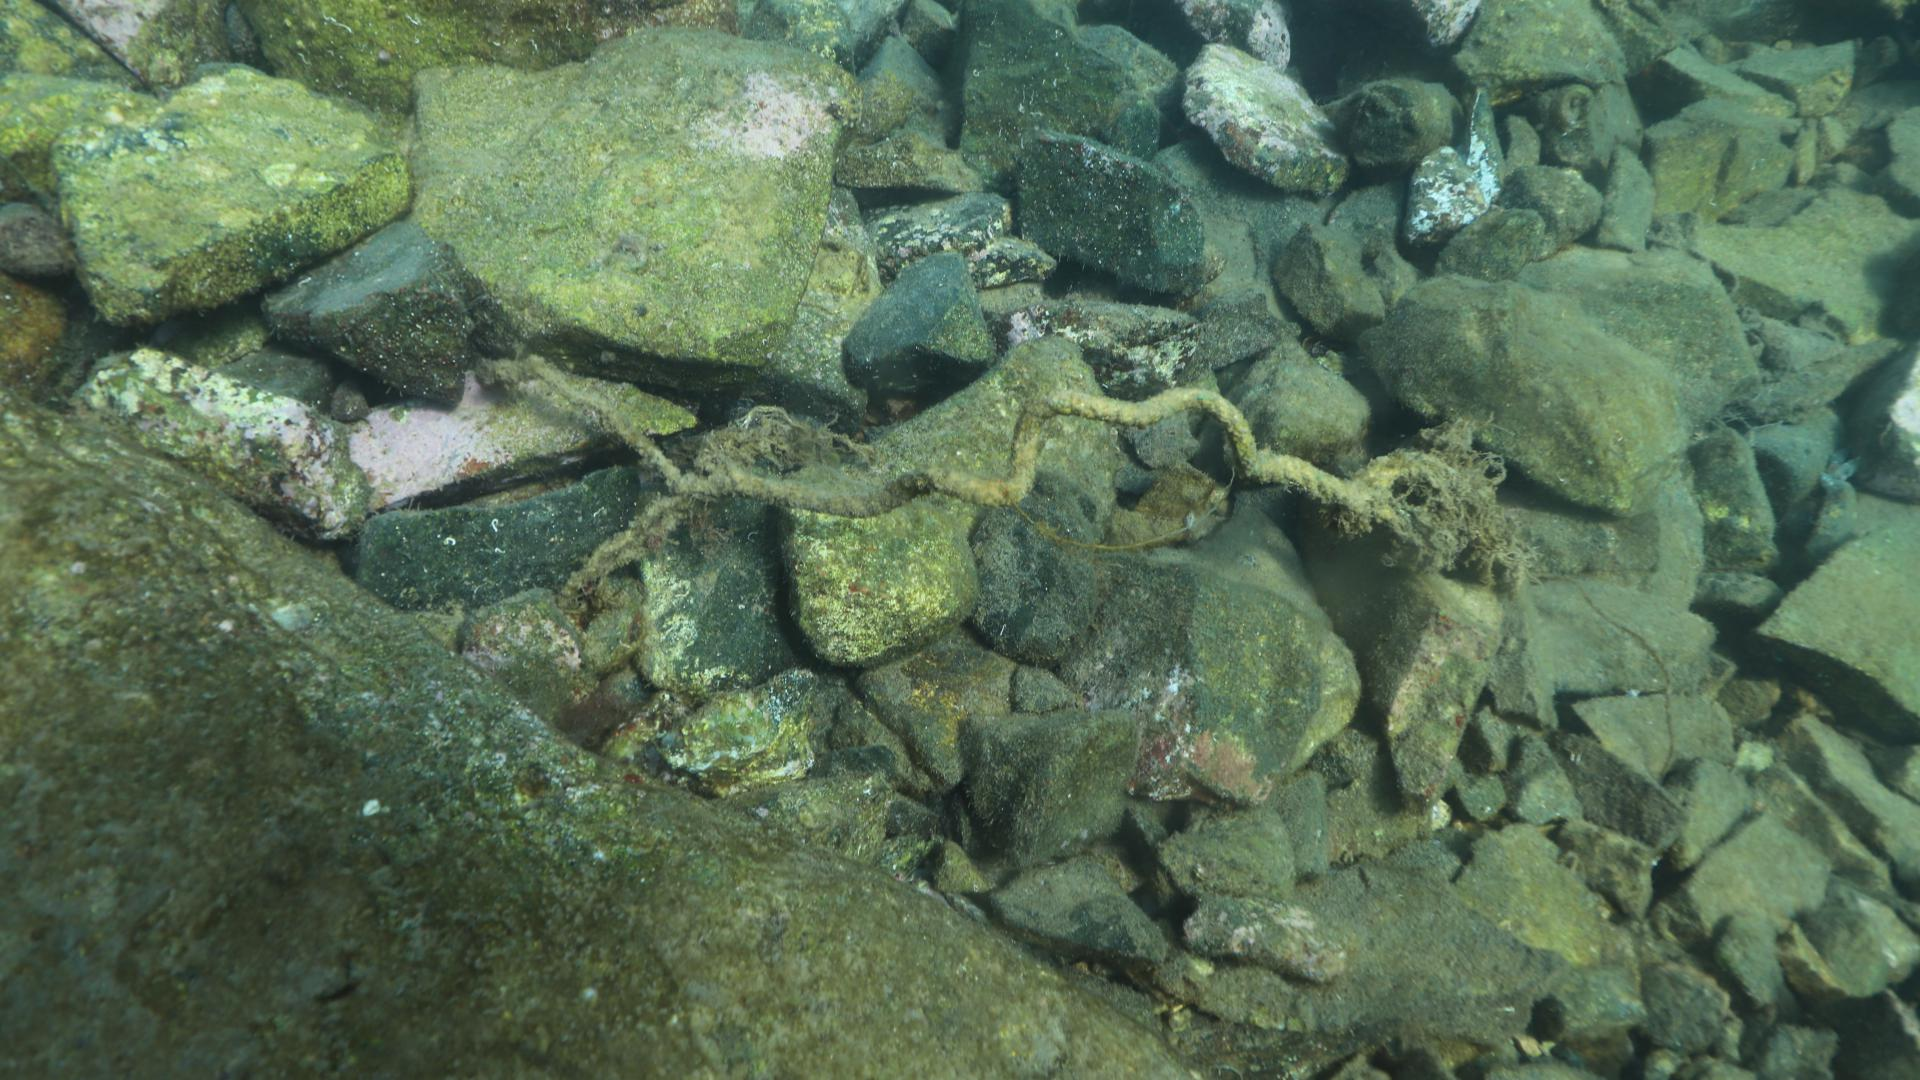rope: (684, 382, 1342, 516)
